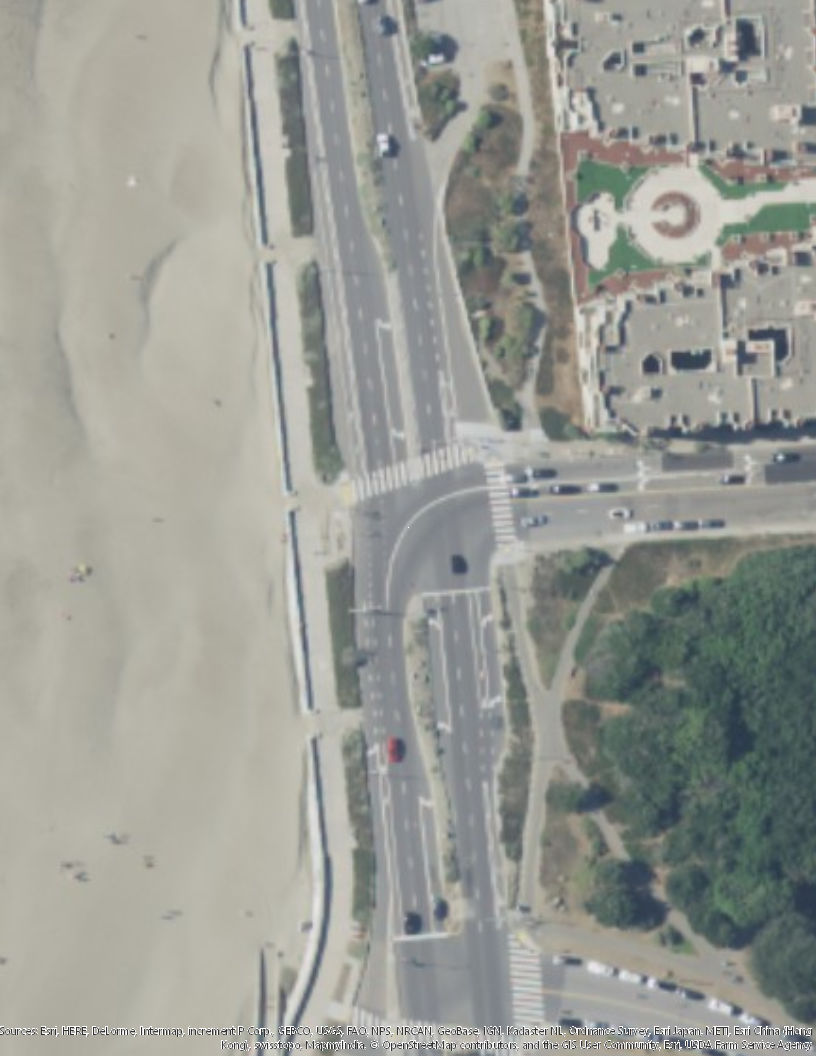zebracross: (505, 931, 547, 1033), (484, 459, 518, 542), (353, 456, 412, 501), (421, 438, 472, 484)
